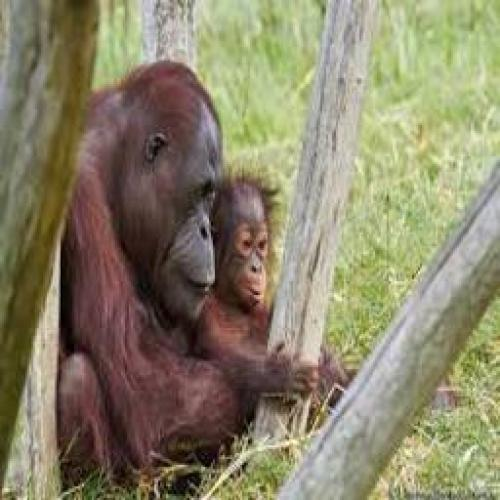orangutan-endangered: (54, 63, 259, 479), (190, 178, 350, 410)
